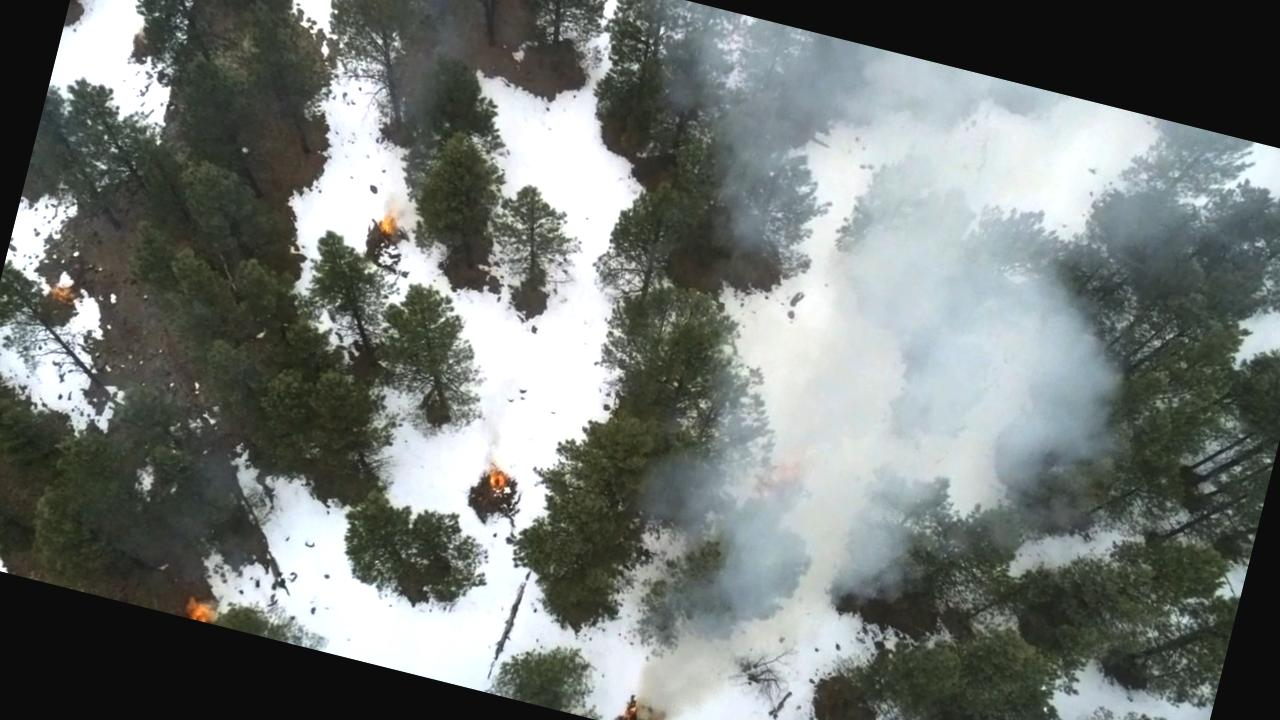fire: (478, 459, 516, 499), (615, 698, 677, 720), (371, 209, 405, 239), (182, 590, 213, 622)
smoke: (611, 0, 1280, 418), (624, 282, 1112, 653)
